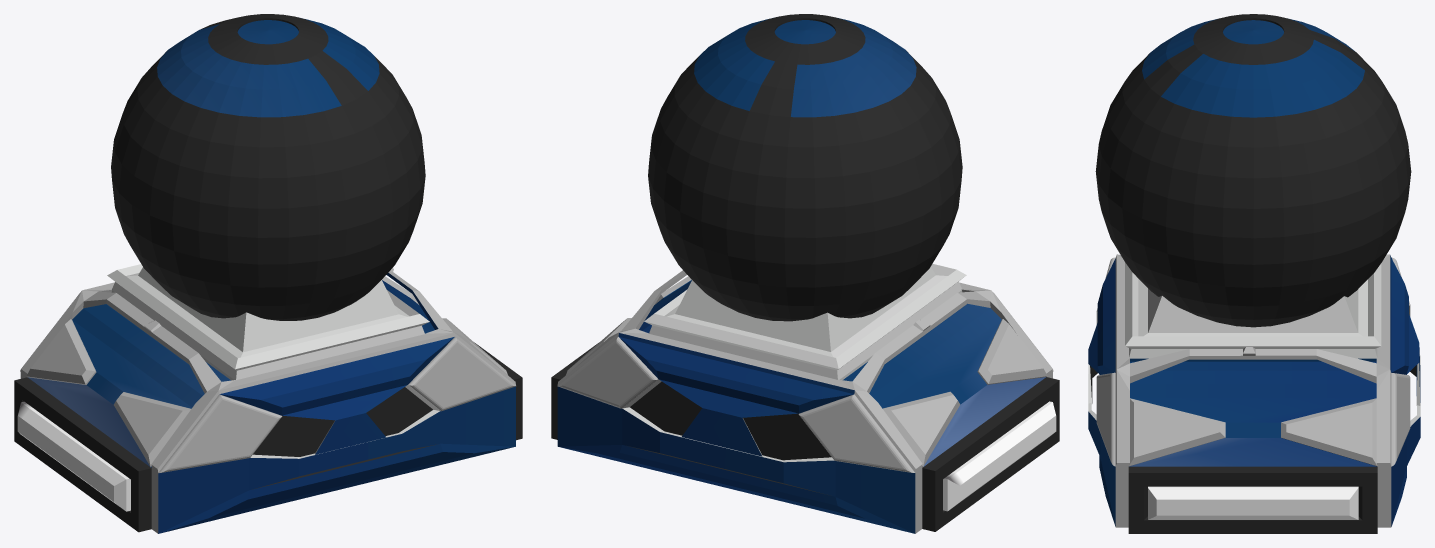
File: Radar_A_Small.fbx
3 renders of one model, left to right at view 1: azimuth 30°, elevation 25°; view 2: azimuth 150°, elevation 25°; view 3: azimuth 270°, elevation 25°, orthographic.
Visible parts, largest first — view 1: Cube; view 2: Cube; view 3: Cube.
Boxes of the visible parts, x1=… form: Cube: x1=14, y1=14, x2=522, y2=533; Cube: x1=551, y1=14, x2=1059, y2=533; Cube: x1=1088, y1=14, x2=1420, y2=533.
Size of the model in its own units: 1.46 by 1.42 by 1.04.
